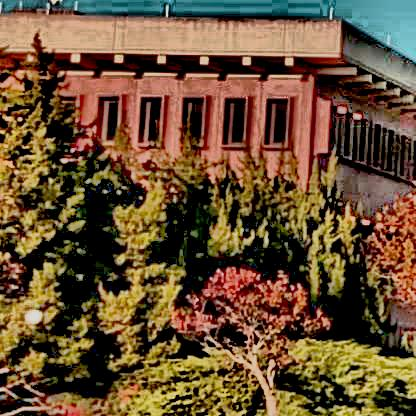golfball: (22, 305, 39, 322)
